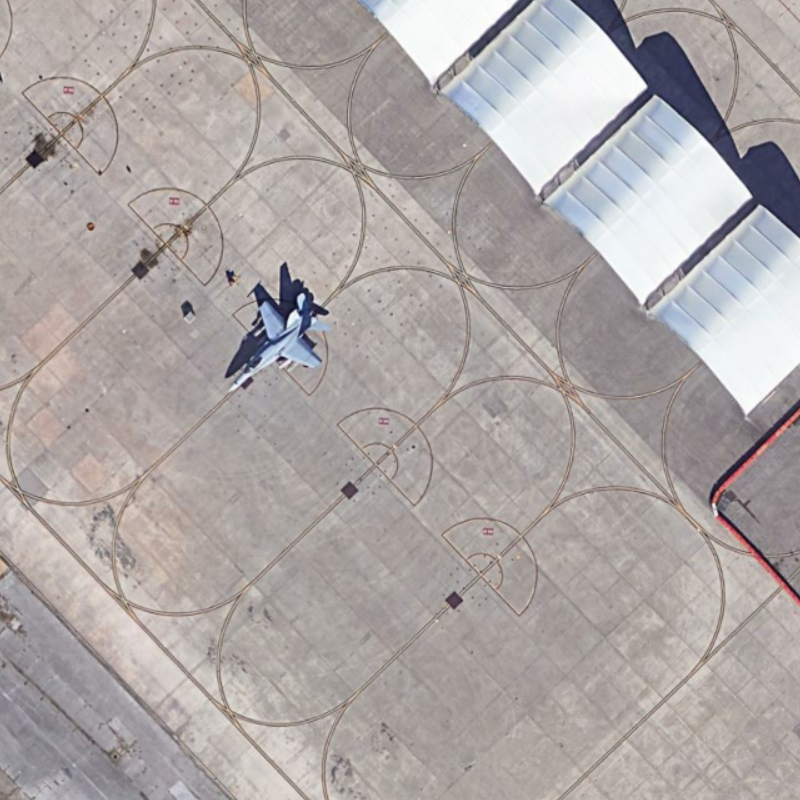A16: (221, 291, 331, 391)
